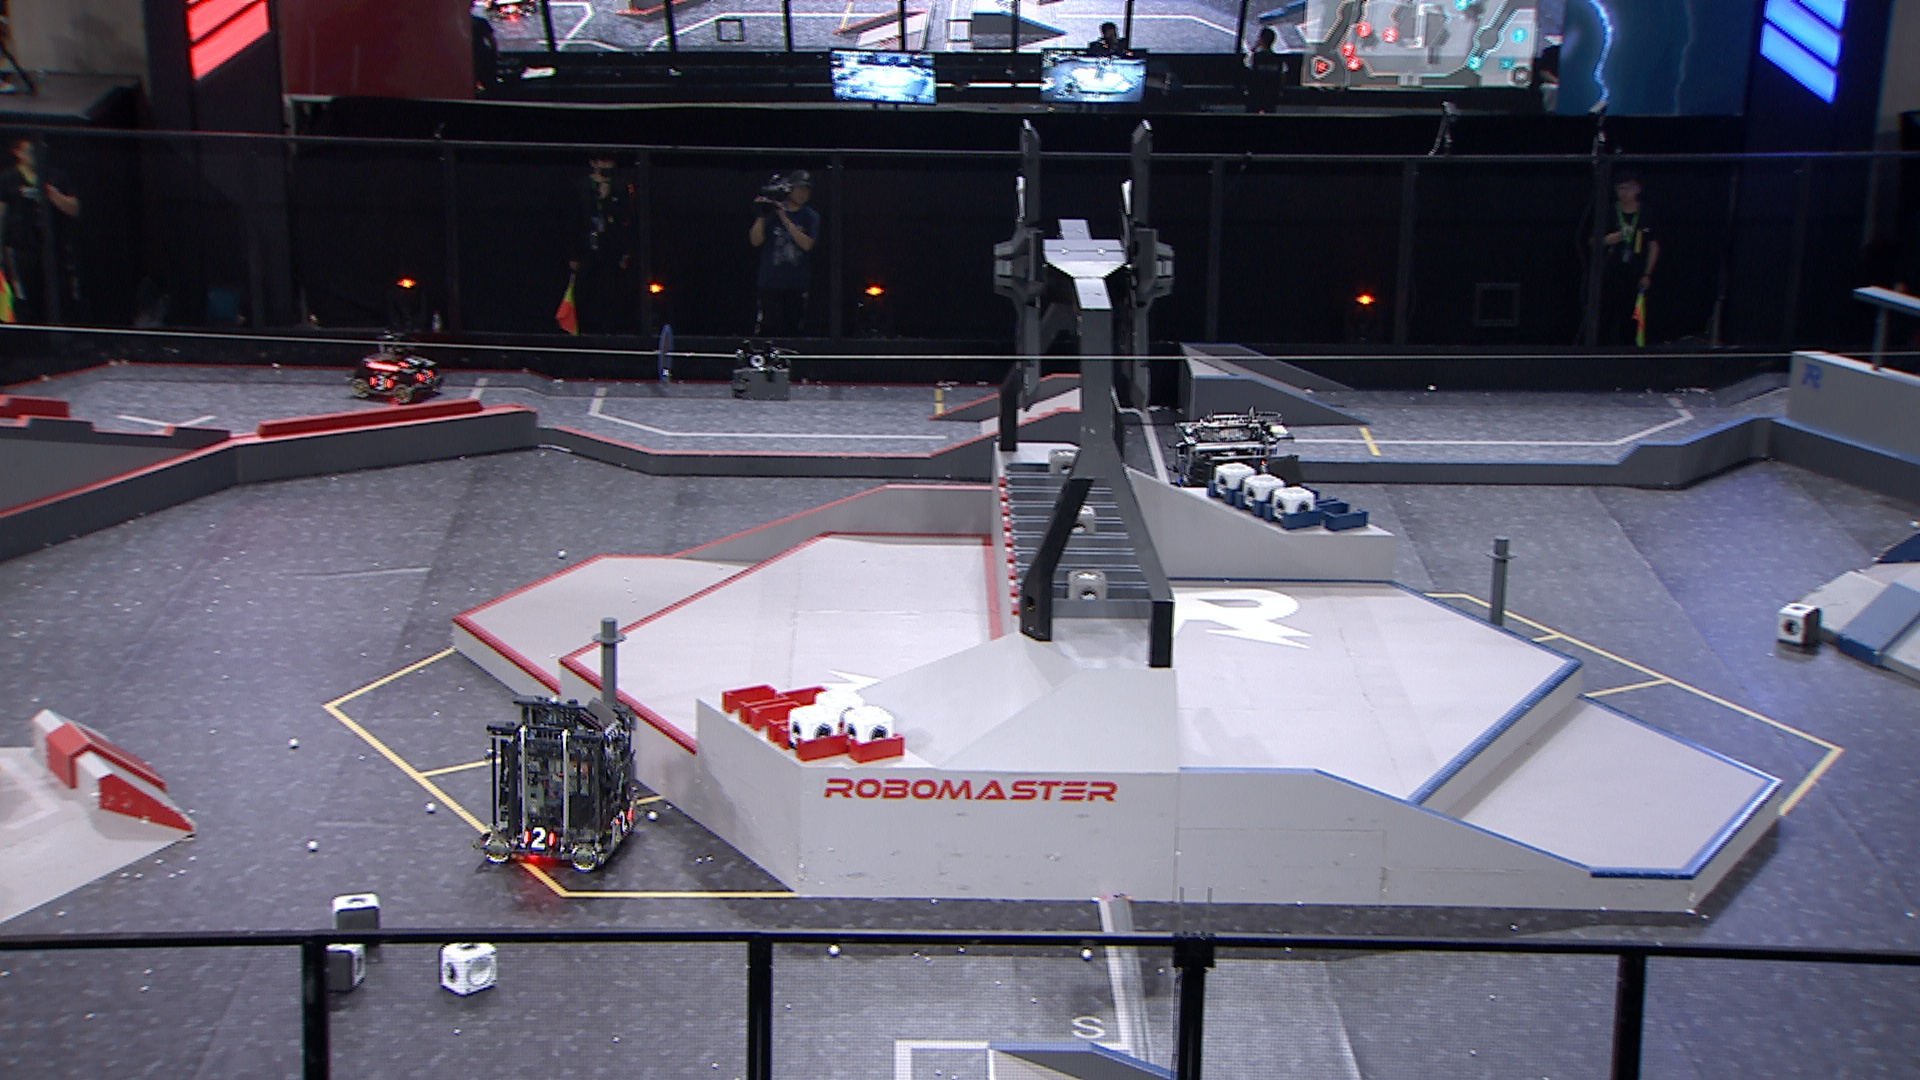armor: (524, 825, 553, 849), (612, 806, 636, 831), (400, 353, 423, 367), (372, 375, 392, 389), (414, 371, 438, 381)
car: (472, 694, 647, 873), (1172, 406, 1291, 527), (344, 327, 443, 406)
